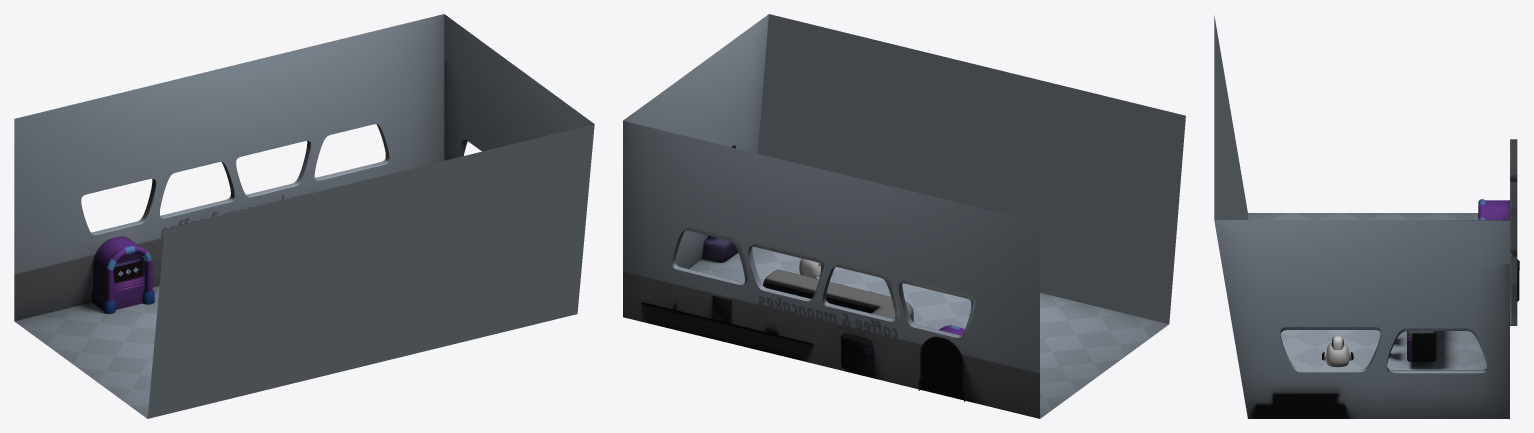
The model's file is CAFETERIA.dae.
3 views of the same model, side by side, from view 1: azimuth 30°, elevation 25°; view 2: azimuth 150°, elevation 25°; view 3: azimuth 270°, elevation 25° (orthographic). The views are drawn at different scales.
Visible parts, largest first — view 1: pared.down, pared.up, pared.right, suelo, jukebox; view 2: pared.up, pared.down, suelo, pared.right, barra, sofa, fregadero; view 3: pared.right, suelo, pared.down, pared.up, barra, aspiradora, jukebox.
Boxes of the visible parts, <box> form: pared.down: <box>147,124,594,418</box>; pared.up: <box>14,14,444,321</box>; pared.right: <box>444,14,594,160</box>; suelo: <box>14,286,159,418</box>; jukebox: <box>92,236,154,313</box>; pared.up: <box>623,121,1039,418</box>; pared.down: <box>758,14,1185,323</box>; suelo: <box>689,246,1168,418</box>; pared.right: <box>623,14,768,268</box>; barra: <box>763,269,913,373</box>; sofa: <box>703,235,737,260</box>; fregadero: <box>641,301,813,345</box>; pared.right: <box>1214,220,1509,418</box>; suelo: <box>1248,213,1486,370</box>; pared.down: <box>1214,15,1247,219</box>; pared.up: <box>1510,139,1517,325</box>; barra: <box>1407,259,1519,361</box>; aspiradora: <box>1322,335,1353,367</box>; jukebox: <box>1478,199,1509,219</box>.
Bounding box in the file's own units: 14.88 × 9.18 × 6.63.
12 materials, 12 textured.
